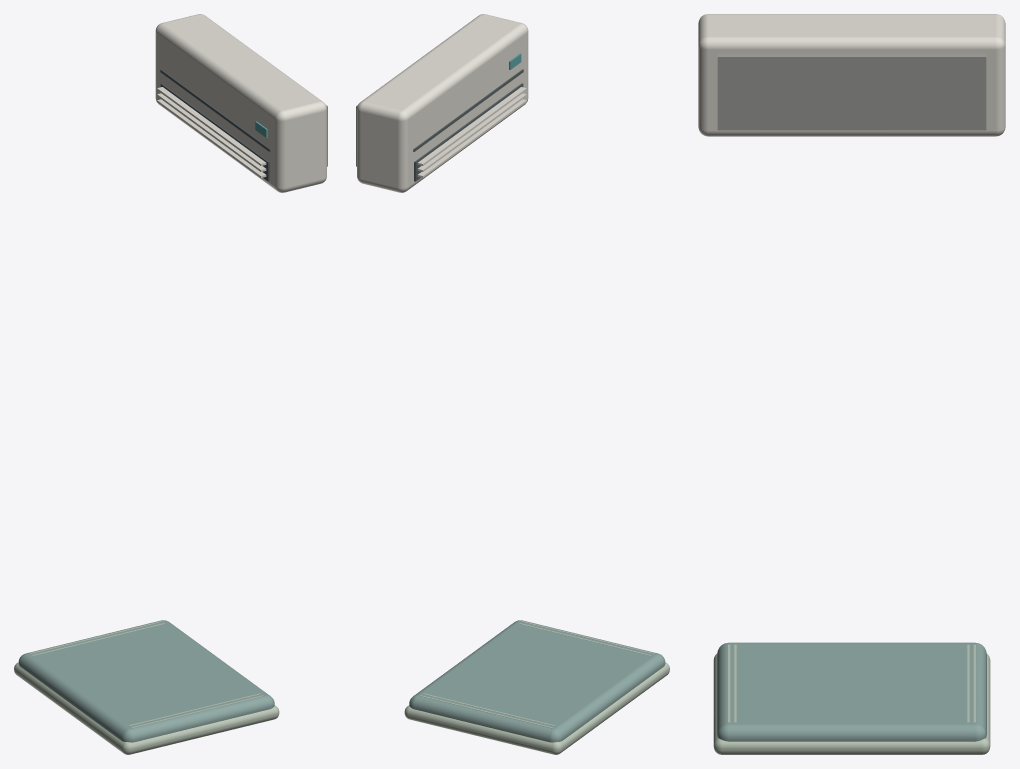
File: apartment-living-details.glb
3 renders of one model, left to right at view 1: azimuth 30°, elevation 25°; view 2: azimuth 150°, elevation 25°; view 3: azimuth 270°, elevation 25°, orthographic. The views are drawn at different scales.
Visible parts, largest first — view 1: Washable cushion, Enamel fan-coil housing, Maru pad bound edge, Adjustable discharge vane (×3); view 2: Washable cushion, Enamel fan-coil housing, Maru pad bound edge, Adjustable discharge vane (×3); view 3: Washable cushion, Air conditioner wall cleat, Enamel fan-coil housing, Maru pad bound edge.
Boxes of the visible parts, box(x1,y1,x2,y2) form: Washable cushion: box(18, 620, 274, 742); Enamel fan-coil housing: box(155, 14, 326, 192); Maru pad bound edge: box(14, 662, 279, 754); Adjustable discharge vane (×3): box(157, 87, 266, 177); Washable cushion: box(409, 620, 665, 742); Enamel fan-coil housing: box(357, 14, 528, 192); Maru pad bound edge: box(404, 662, 669, 754); Adjustable discharge vane (×3): box(417, 87, 526, 177); Washable cushion: box(717, 642, 986, 741); Air conditioner wall cleat: box(717, 53, 986, 130); Enamel fan-coil housing: box(698, 14, 1005, 136); Maru pad bound edge: box(713, 653, 990, 754).
Size of the model in its own units: 0.7435 by 2.13 by 0.8.
